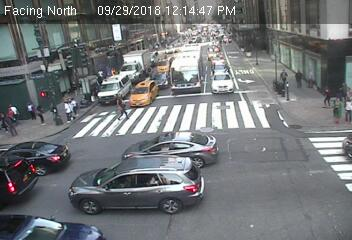car: (71, 156, 208, 215), (116, 132, 223, 163), (1, 214, 103, 240), (1, 156, 39, 206), (7, 141, 70, 171), (172, 44, 203, 94), (98, 72, 130, 107), (119, 49, 150, 80), (130, 80, 158, 106), (211, 72, 233, 94), (149, 72, 169, 87), (209, 61, 232, 72), (158, 56, 171, 73), (223, 35, 232, 43), (208, 51, 218, 58)
